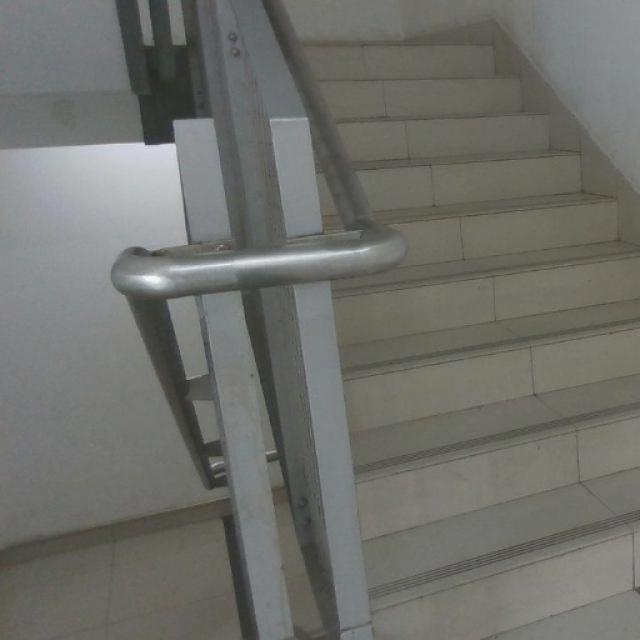stair: (423, 28, 628, 604)
